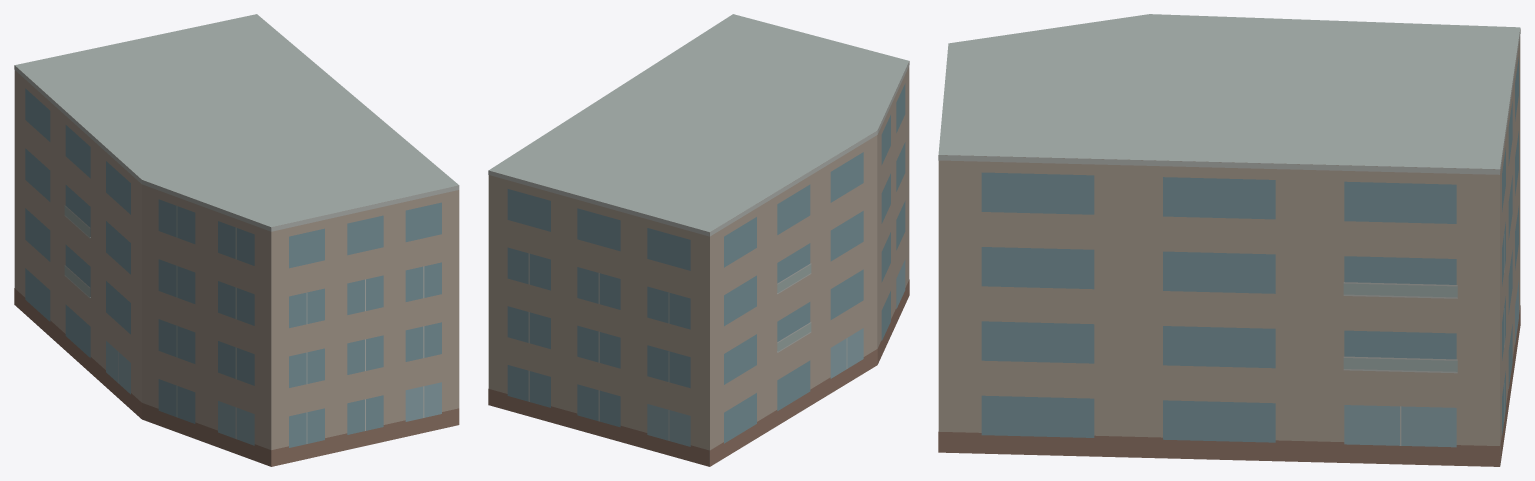
File: survey-upis-32479622.glb
3 views of the same model, side by side, from view 1: azimuth 30°, elevation 25°; view 2: azimuth 150°, elevation 25°; view 3: azimuth 270°, elevation 25° (orthographic). The views are drawn at different scales.
Parts seen in each view (by area): view 1: survey-upis-32479622.tmp; view 2: survey-upis-32479622.tmp; view 3: survey-upis-32479622.tmp.
Part boxes in pixels (x1,y1,x2,y2): survey-upis-32479622.tmp: (14, 14, 459, 466); survey-upis-32479622.tmp: (488, 14, 909, 466); survey-upis-32479622.tmp: (938, 14, 1520, 466).
Size of the model in its own units: 14.49 by 12.95 by 22.96.
